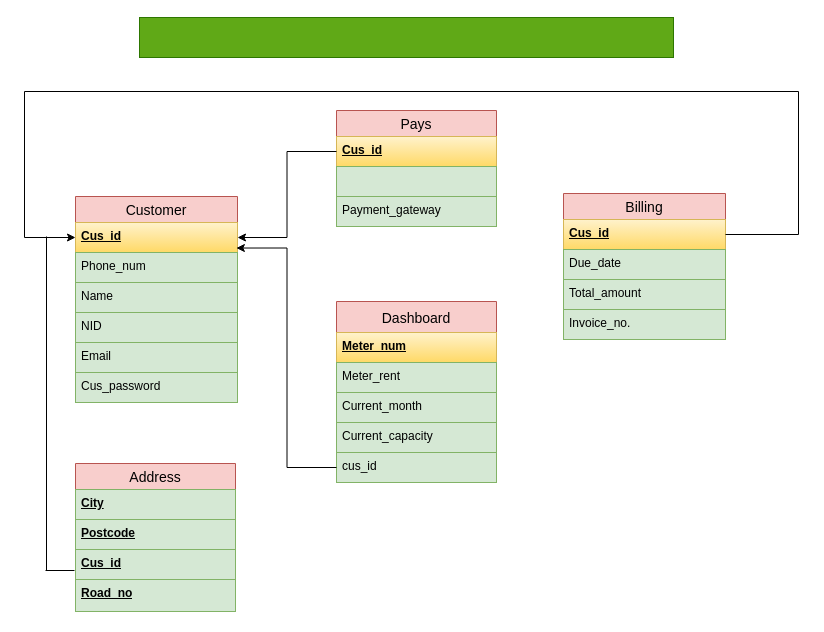
Image size: 824x632. Some labels were removed from this diagram. Here are the shapes that lost their labels. From the top down, the centre of each, then its label:
(x=406, y=37): Electricity Bill Management System
(x=416, y=181): Payment_history
